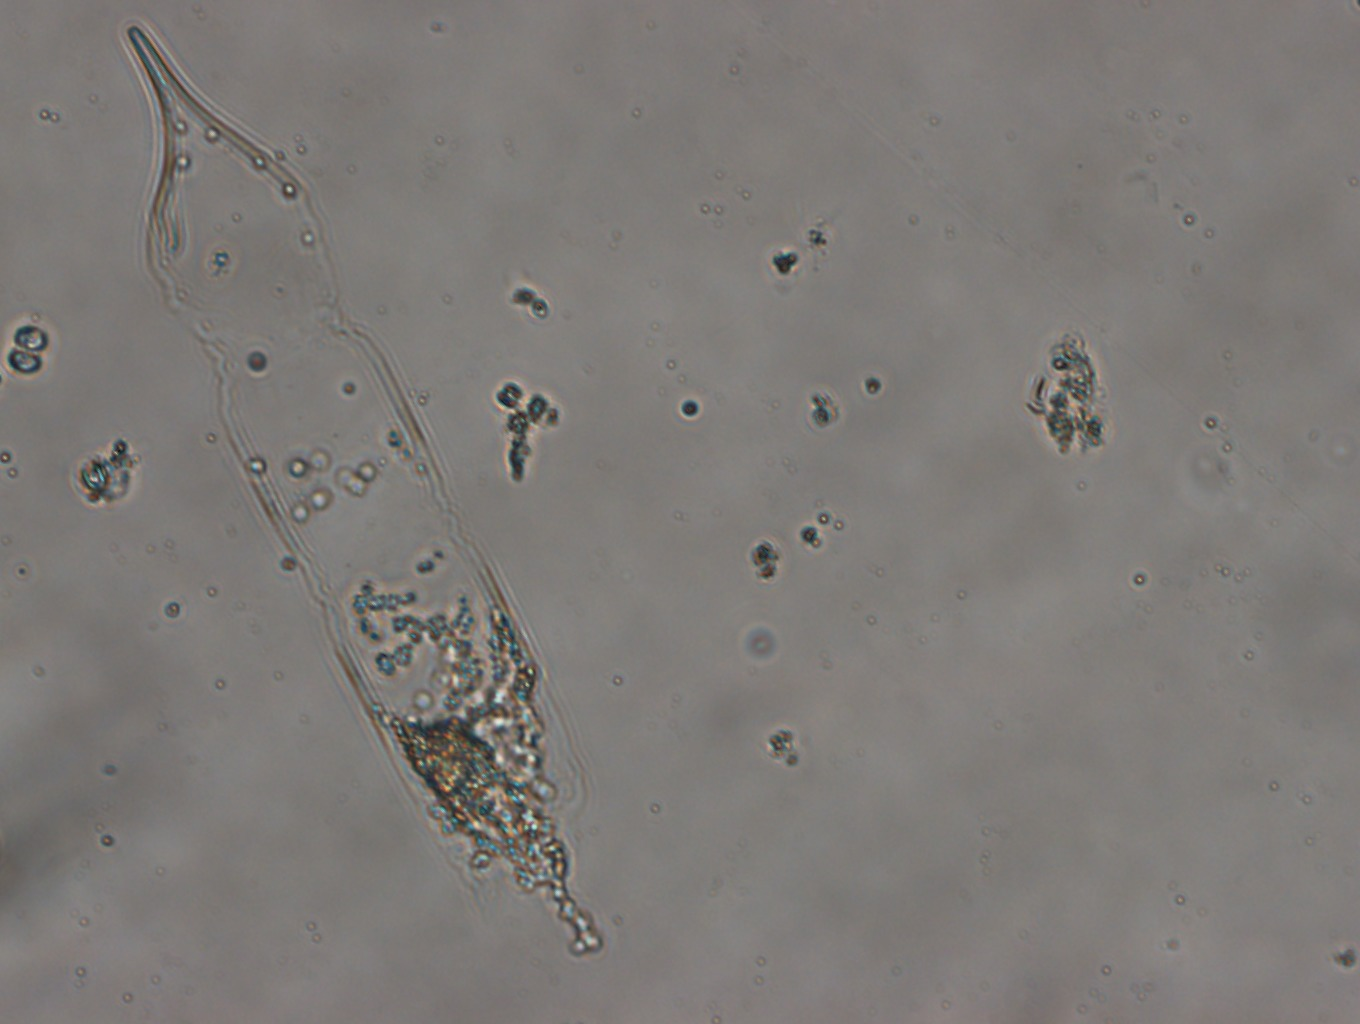rhizosolenia: (118, 15, 609, 963)
